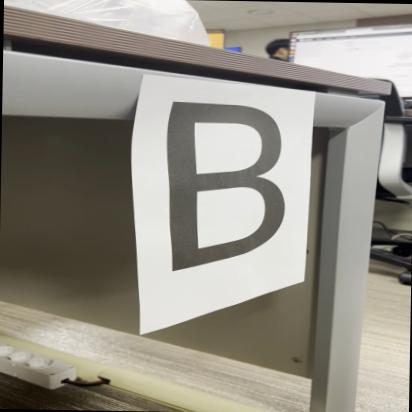seat: (152, 88, 291, 287)
